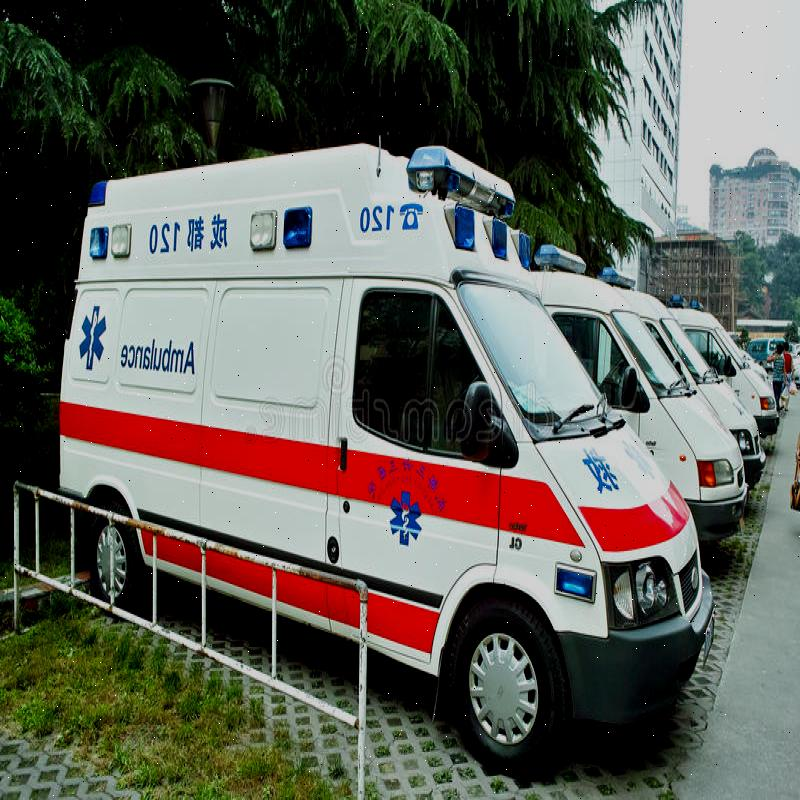AmbulanceSiren: (412, 144, 535, 213)
ambulance: (70, 160, 730, 729)
